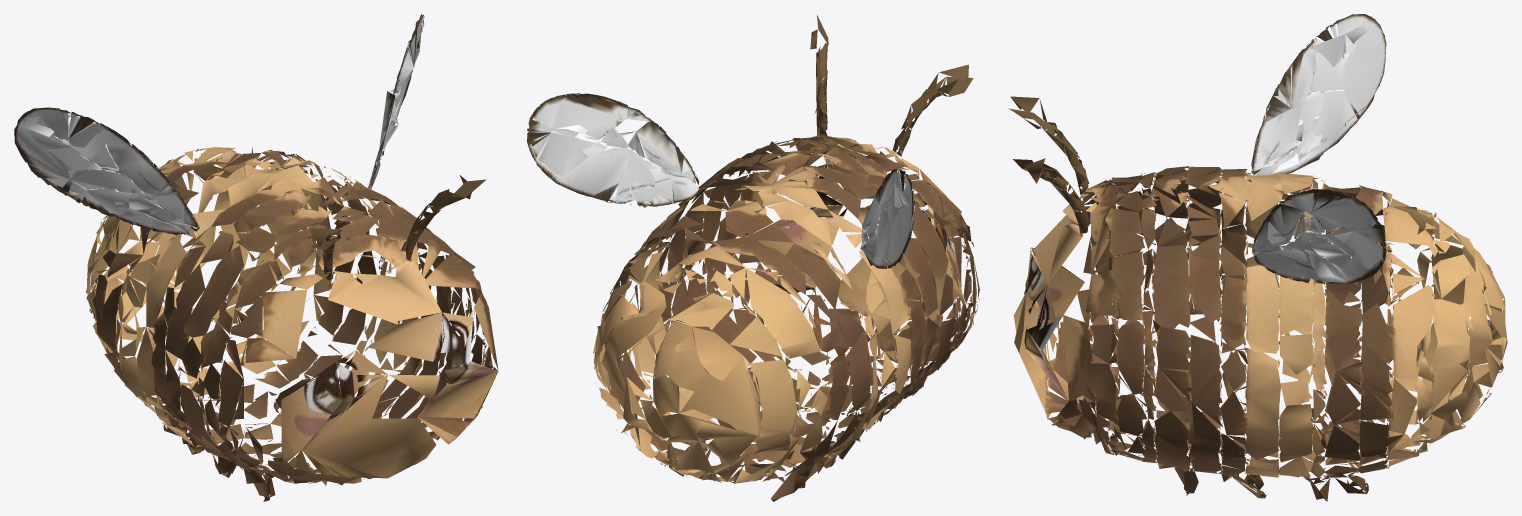
Rendered from bee.glb.
The picture shows the model from 3 angles, left to right: view 1: azimuth 30°, elevation 25°; view 2: azimuth 150°, elevation 25°; view 3: azimuth 270°, elevation 25°; orthographic projection. The views are drawn at different scales.
Visible parts, largest first — view 1: model; view 2: model; view 3: model.
Part boxes in pixels (<box>): model: <box>14,14,498,501</box>; model: <box>527,15,979,501</box>; model: <box>1008,14,1507,501</box>.
Bounding box in the file's own units: 1.78 × 1.54 × 1.88.
1 material, 1 textured.
